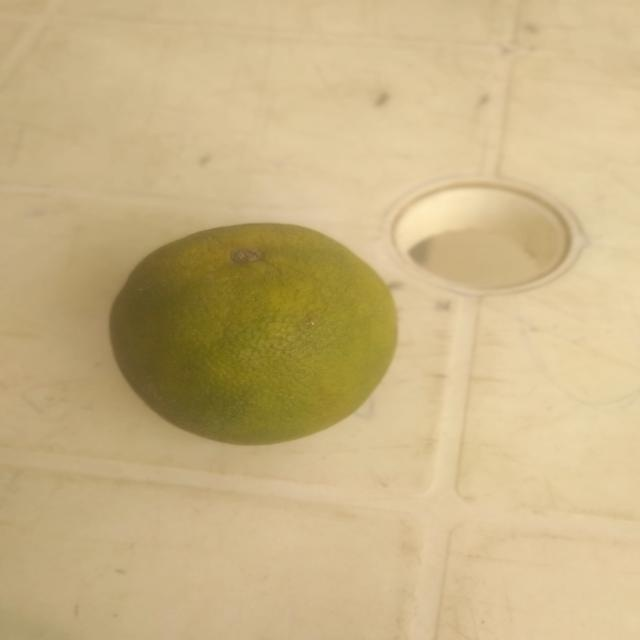agrume: (102, 221, 405, 455)
